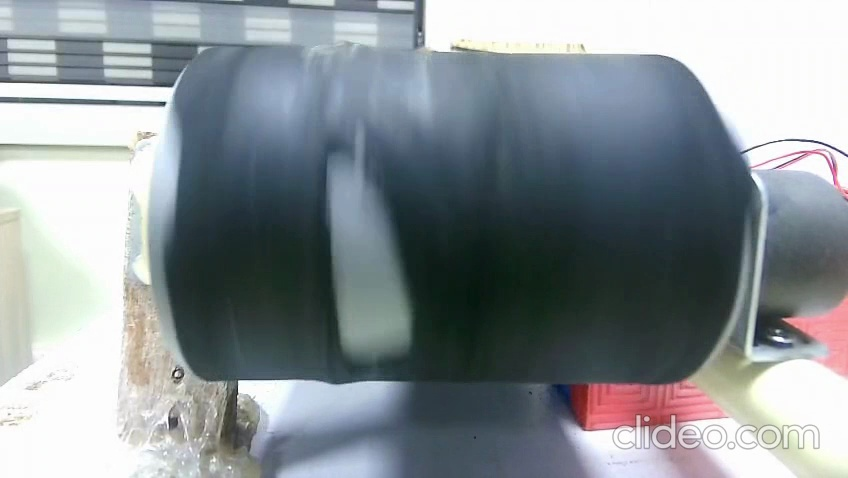hole: (314, 145, 436, 369)
